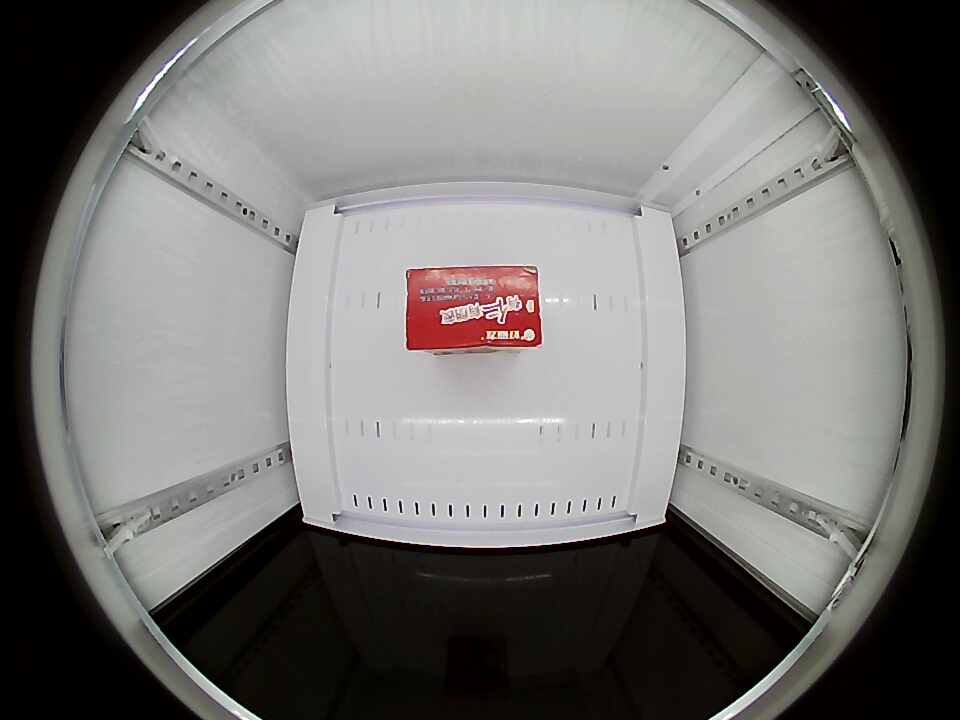haoliyou: (406, 265, 542, 353)
